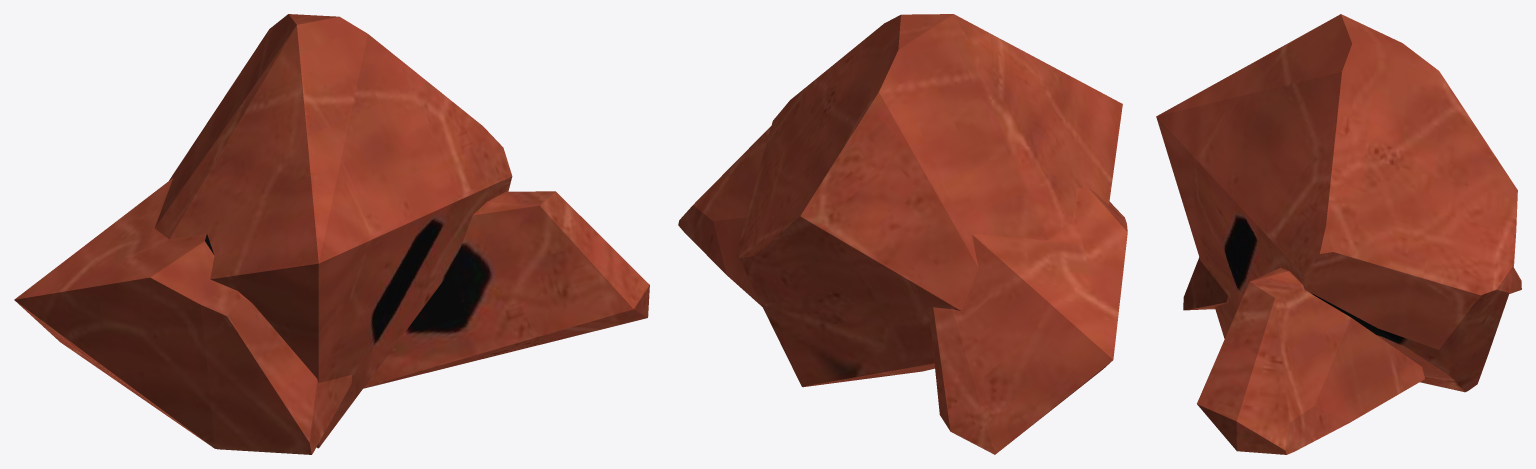
File: res_clay_low.glb
The picture shows the model from 3 angles, left to right: view 1: azimuth 30°, elevation 25°; view 2: azimuth 150°, elevation 25°; view 3: azimuth 270°, elevation 25°; orthographic projection. The views are drawn at different scales.
Parts seen in each view (by area): view 1: res_clay_low; view 2: res_clay_low; view 3: res_clay_low.
Part boxes in pixels (box(x1,y1,x2,y2)): res_clay_low: box(14, 14, 649, 454); res_clay_low: box(678, 14, 1127, 454); res_clay_low: box(1156, 14, 1521, 454).
Size of the model in its own units: 0.86 by 0.5593 by 0.54.
1 material, 1 textured.
